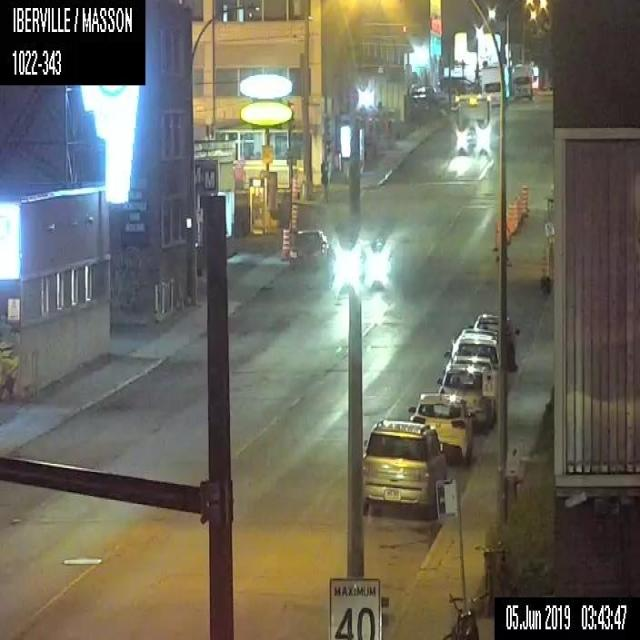construction: (507, 201, 516, 233), (540, 245, 548, 280), (290, 175, 299, 204), (290, 202, 299, 231), (280, 227, 289, 256), (522, 182, 529, 211), (495, 216, 501, 243)
vehicle: (361, 418, 445, 514), (407, 391, 475, 462), (436, 363, 494, 432), (467, 312, 520, 372), (453, 92, 490, 156), (443, 334, 501, 367), (286, 228, 328, 265), (480, 64, 501, 105), (512, 63, 532, 100), (448, 356, 492, 368)
